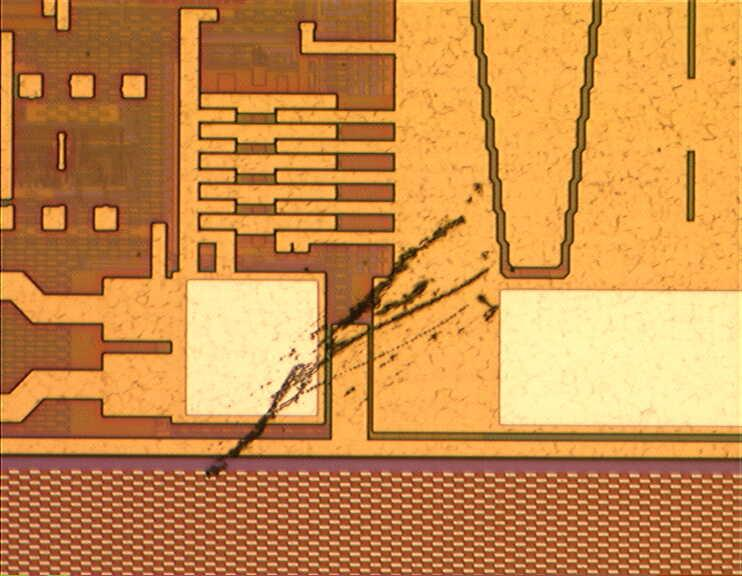SCRATCH: (206, 180, 503, 482)
